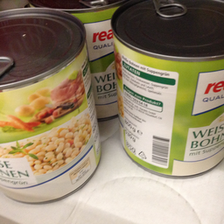beans: (1, 6, 99, 203)
